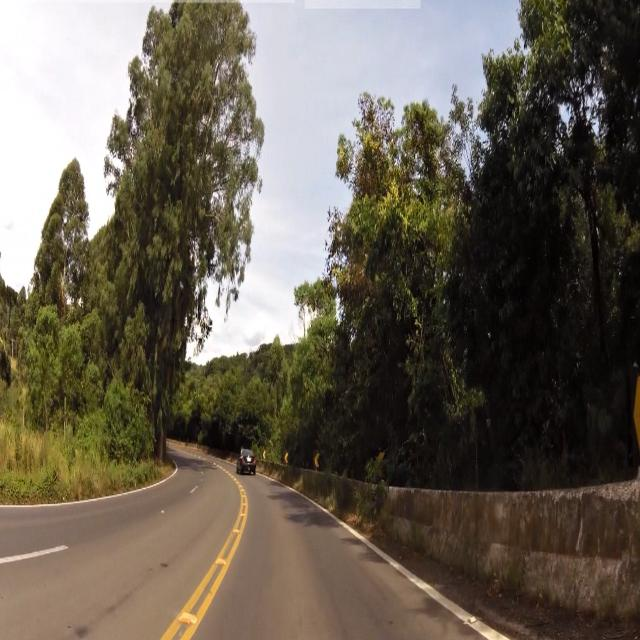Del: (311, 449, 324, 473)
E-5: (374, 449, 388, 487)
